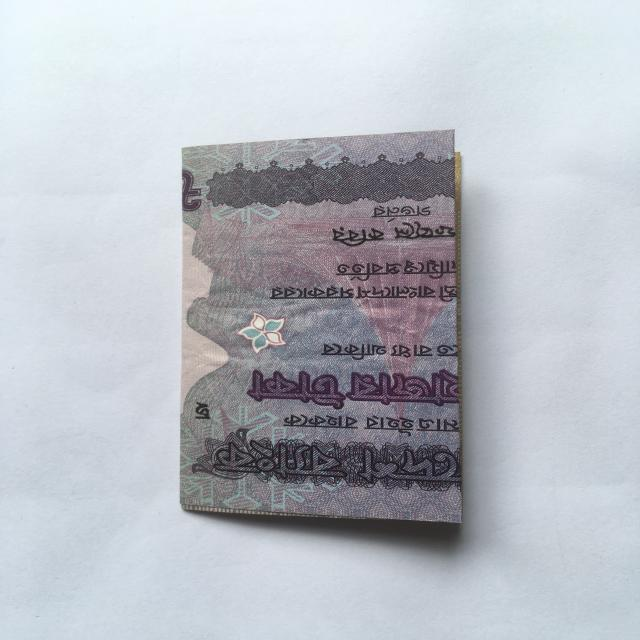Taka: (175, 123, 494, 532)
